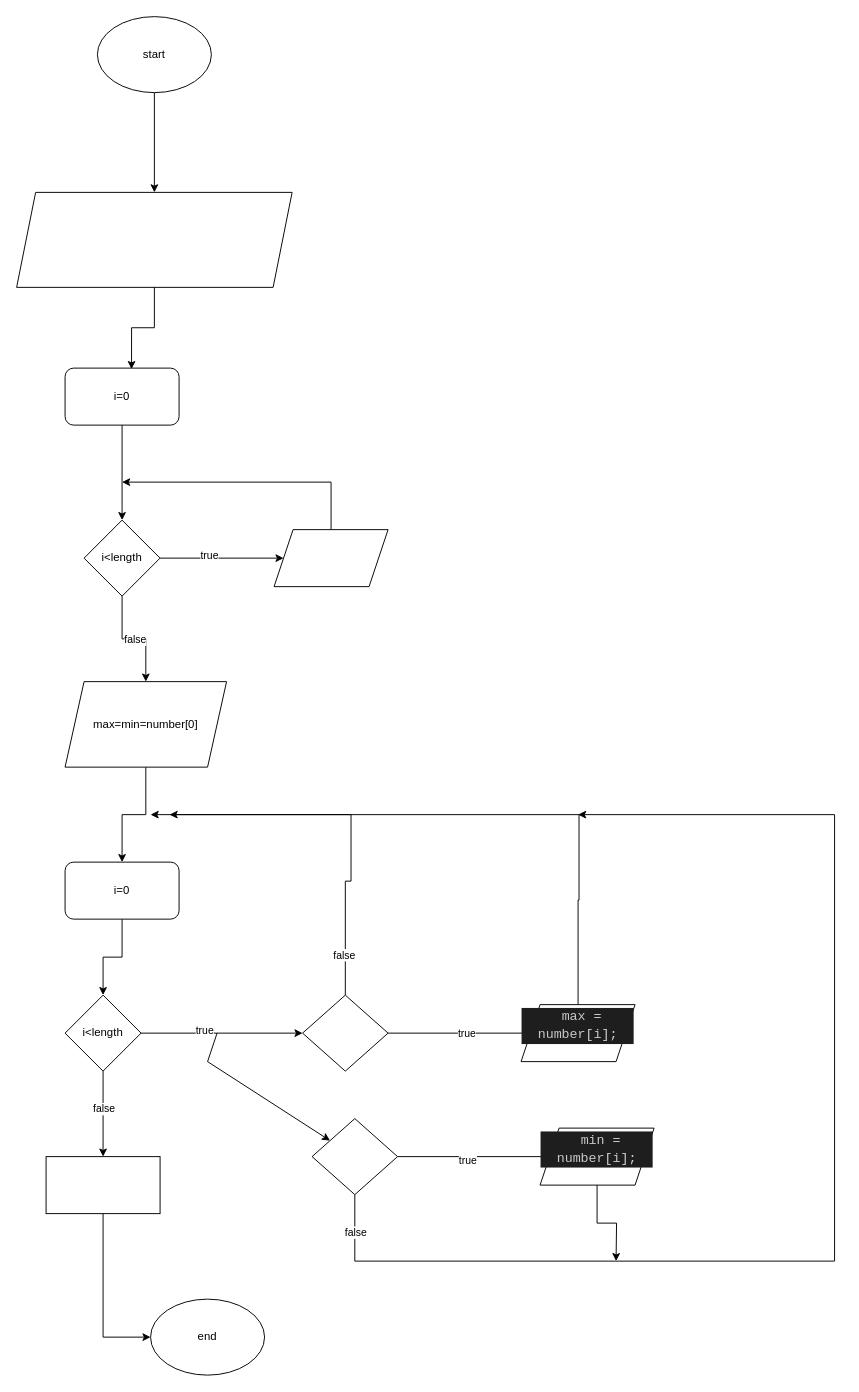
This 859x1392 diagram has some shape labels left out. The centre of each missing label's shape, as x and y in pixels:
max < number [ i ]: point 345,1032
max min: point 102,1185
min > number [ i ]: point 354,1156
num,number[num] lenght =sizeof ( number ) / sizeof ( int ): point 154,239
number[i] i++: point 330,558
